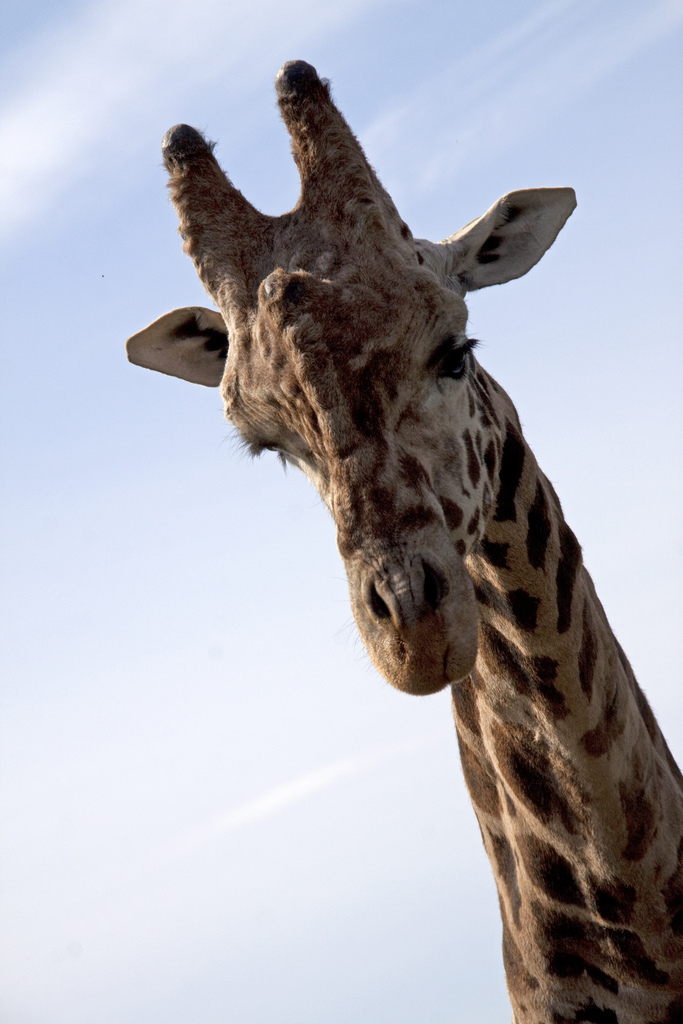giraffe: (132, 50, 656, 1014)
